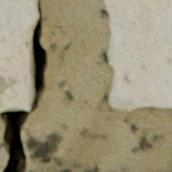brick: (104, 0, 171, 109), (0, 0, 38, 109)
crack: (0, 0, 47, 171)
